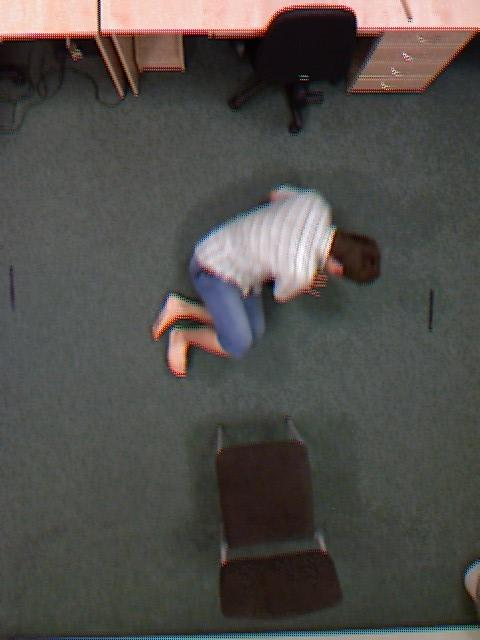fall: (193, 118, 345, 439)
